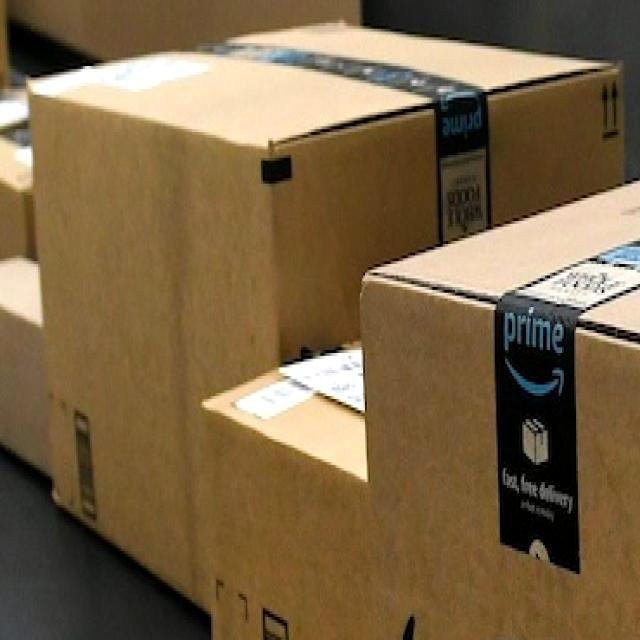Cardboard Box: (32, 22, 640, 627), (205, 327, 640, 640), (359, 174, 640, 636)
